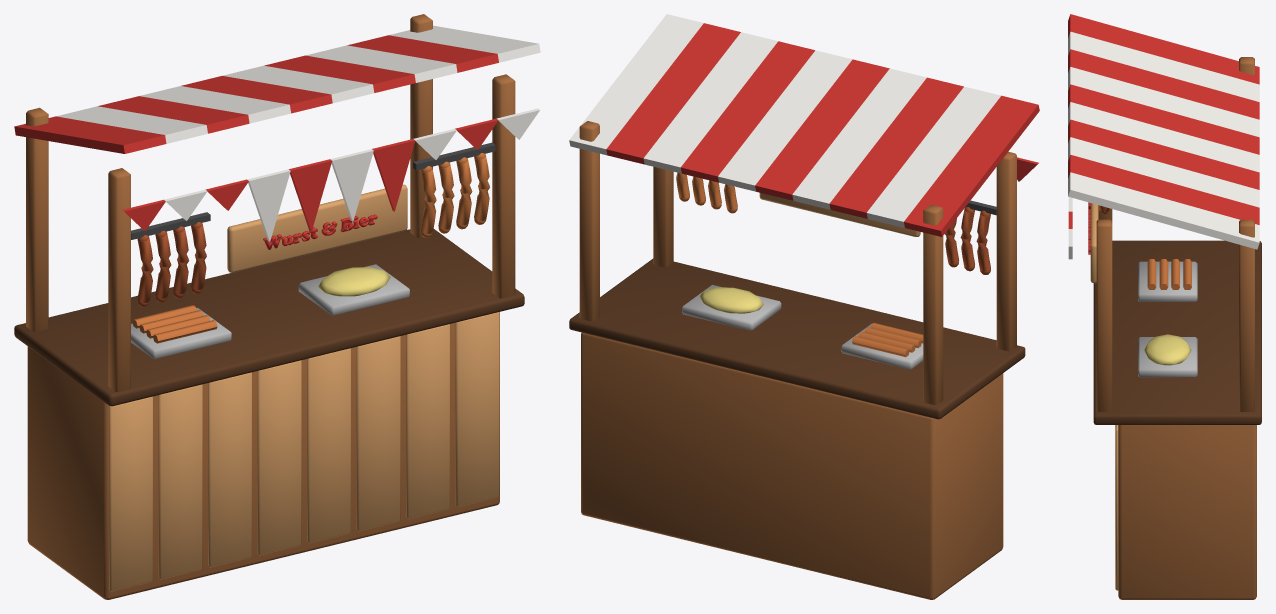
File: barraca_comida.glb
3 renders of one model, left to right at view 1: azimuth 30°, elevation 25°; view 2: azimuth 150°, elevation 25°; view 3: azimuth 270°, elevation 25°, orthographic. The views are drawn at different scales.
Visible parts, largest first — view 1: Barraca_Comida; view 2: Barraca_Comida; view 3: Barraca_Comida.
Part boxes in pixels (x1=…): Barraca_Comida: x1=14, y1=14, x2=540, y2=599; Barraca_Comida: x1=569, y1=14, x2=1039, y2=599; Barraca_Comida: x1=1068, y1=14, x2=1261, y2=599.
Bounding box in the file's own units: 2.1 × 2.32 × 0.9786.
